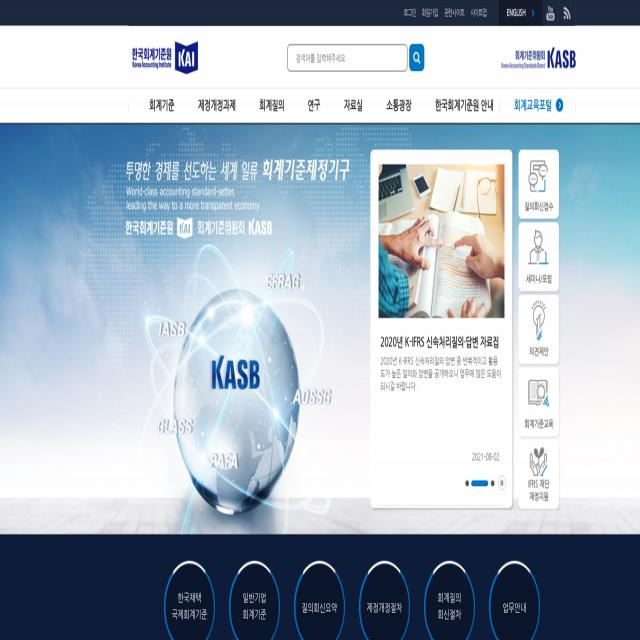button: (128, 33, 202, 80), (502, 45, 576, 70), (498, 0, 542, 25), (542, 0, 558, 25), (559, 0, 575, 25), (410, 44, 424, 70), (498, 476, 506, 490)
field: (287, 44, 407, 72)
